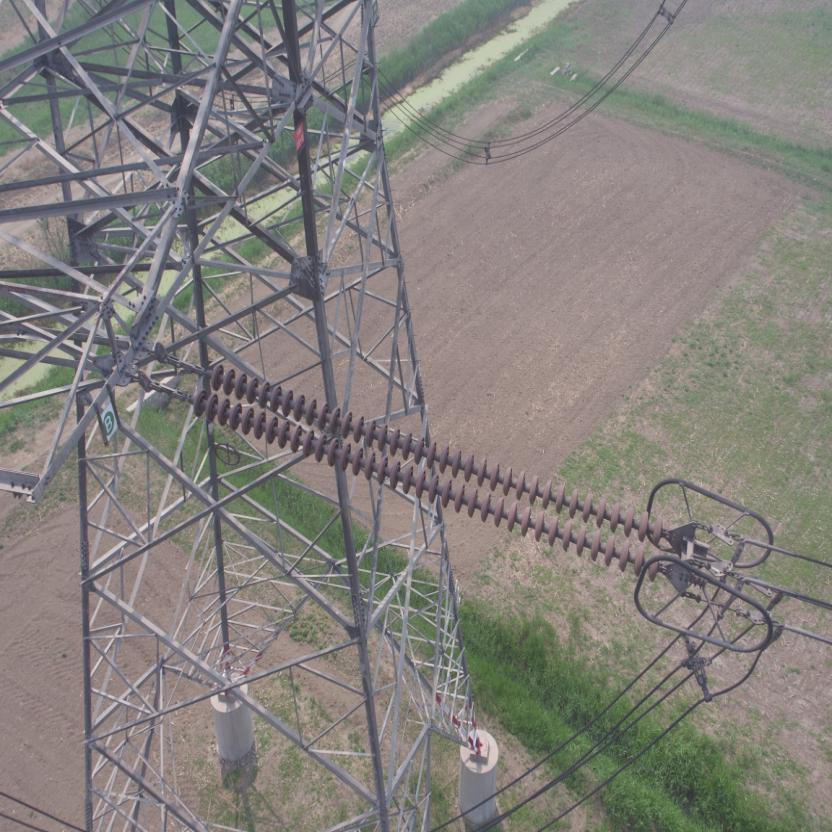insulator: (177, 360, 677, 585)
